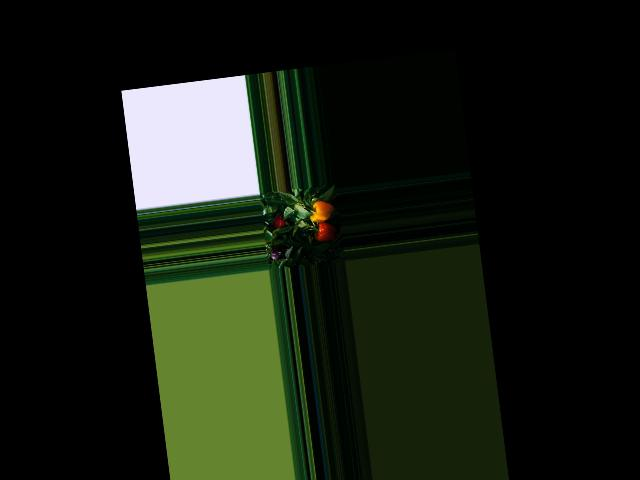bell_pepper: (307, 199, 335, 228)
